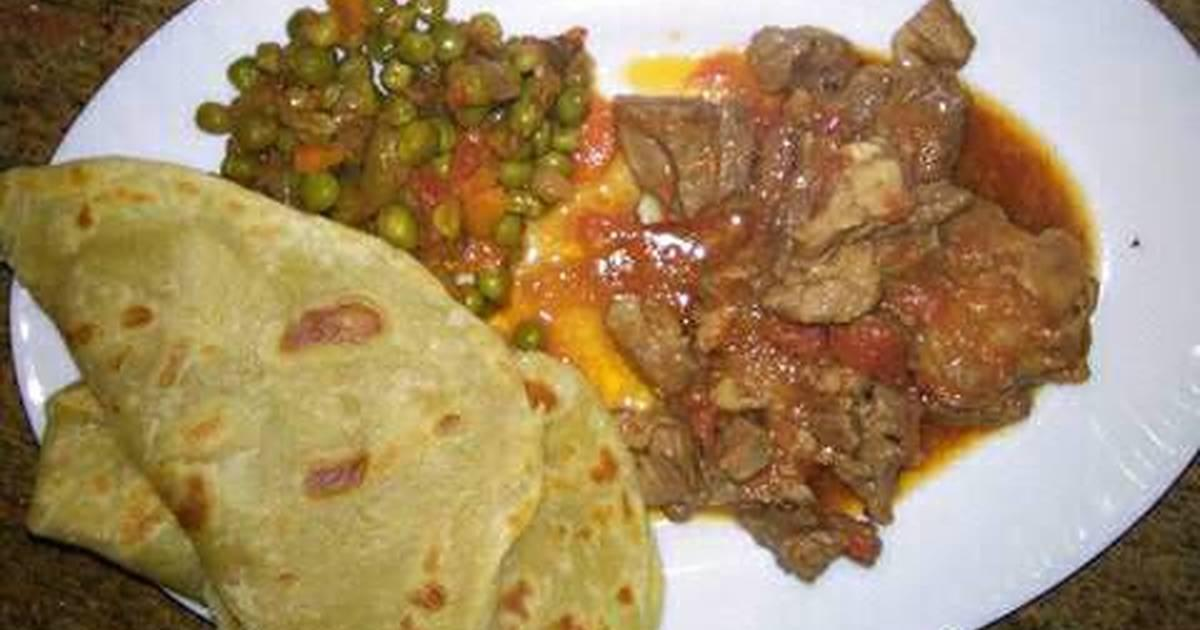chapati: (0, 157, 661, 628)
